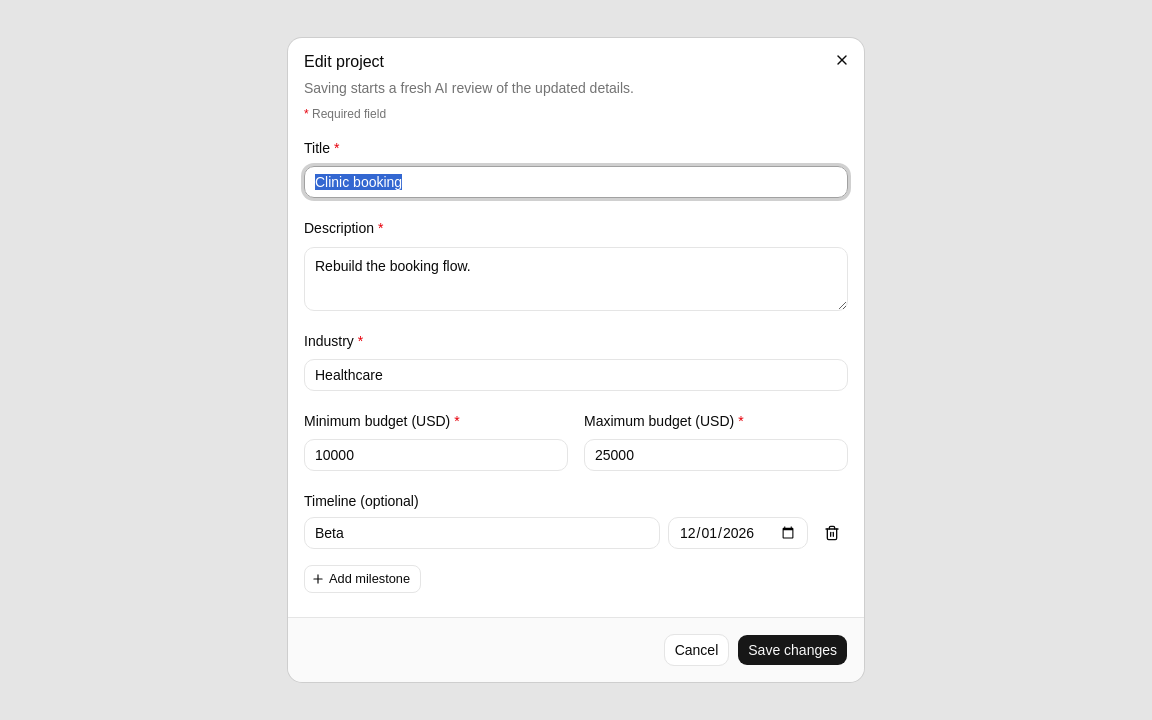
Test: ProjectFormDialog › editing › explains a save rejected while a review is running
This screenshot has width=1152, height=720.
Type " v2" into the field labelled "Title" at (576, 182), box [304, 166, 848, 198]
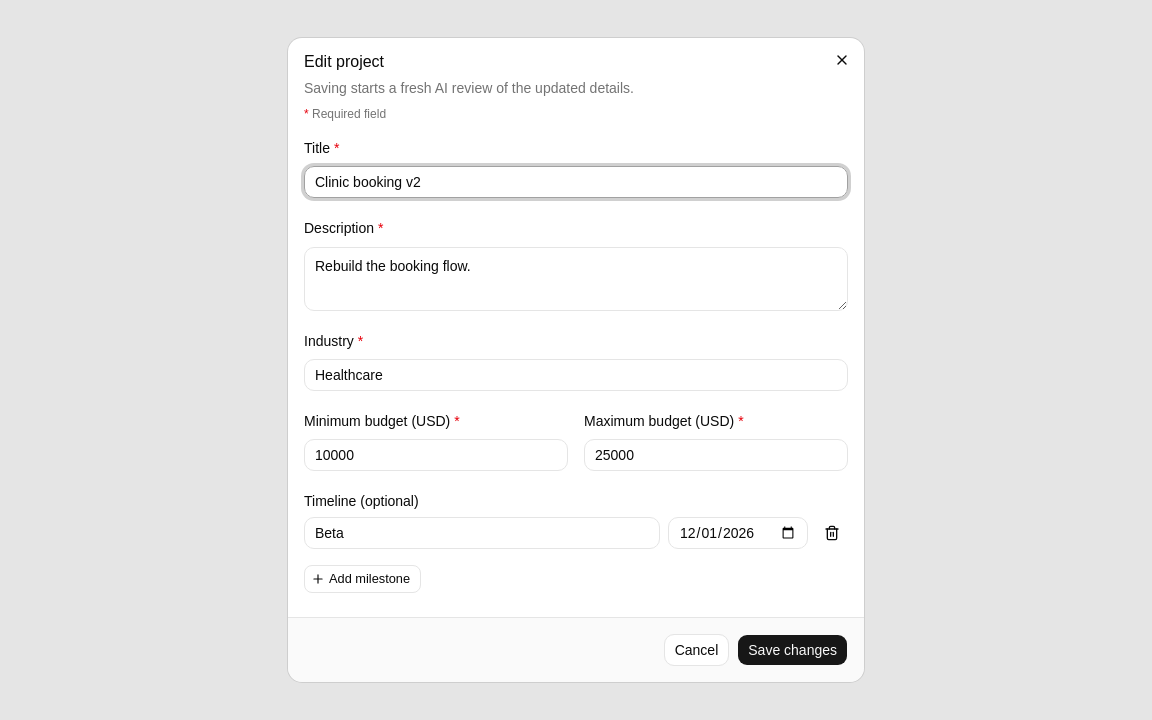
Click the button "Save changes" at (793, 650), box [737, 634, 848, 666]
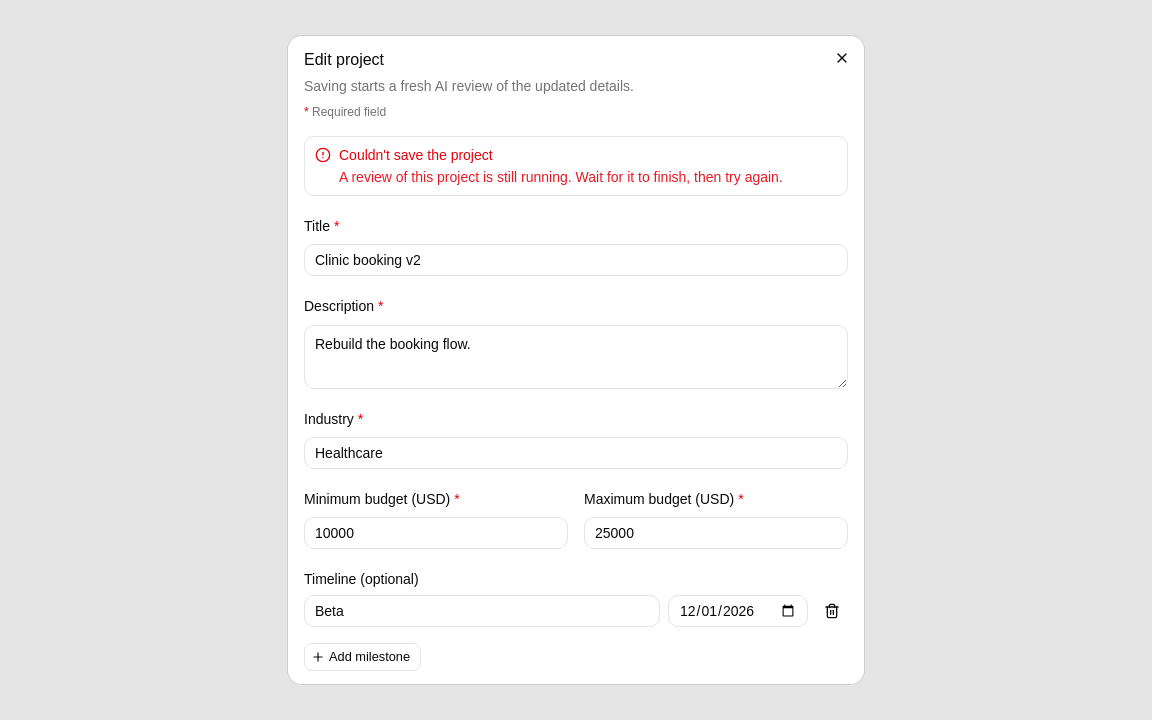
Result: the text "Couldn't save the project" shows "A review of this project is still running. Wait for it to finish, then try again." at [339, 169, 783, 185]
